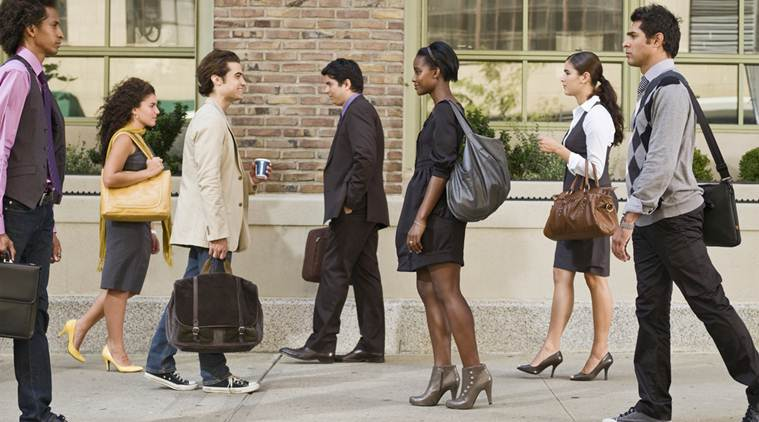NOTSAFE: (622, 7, 699, 219), (1, 1, 67, 218), (185, 50, 249, 244), (104, 77, 166, 237), (320, 58, 381, 220), (409, 41, 466, 208), (558, 51, 615, 201)
